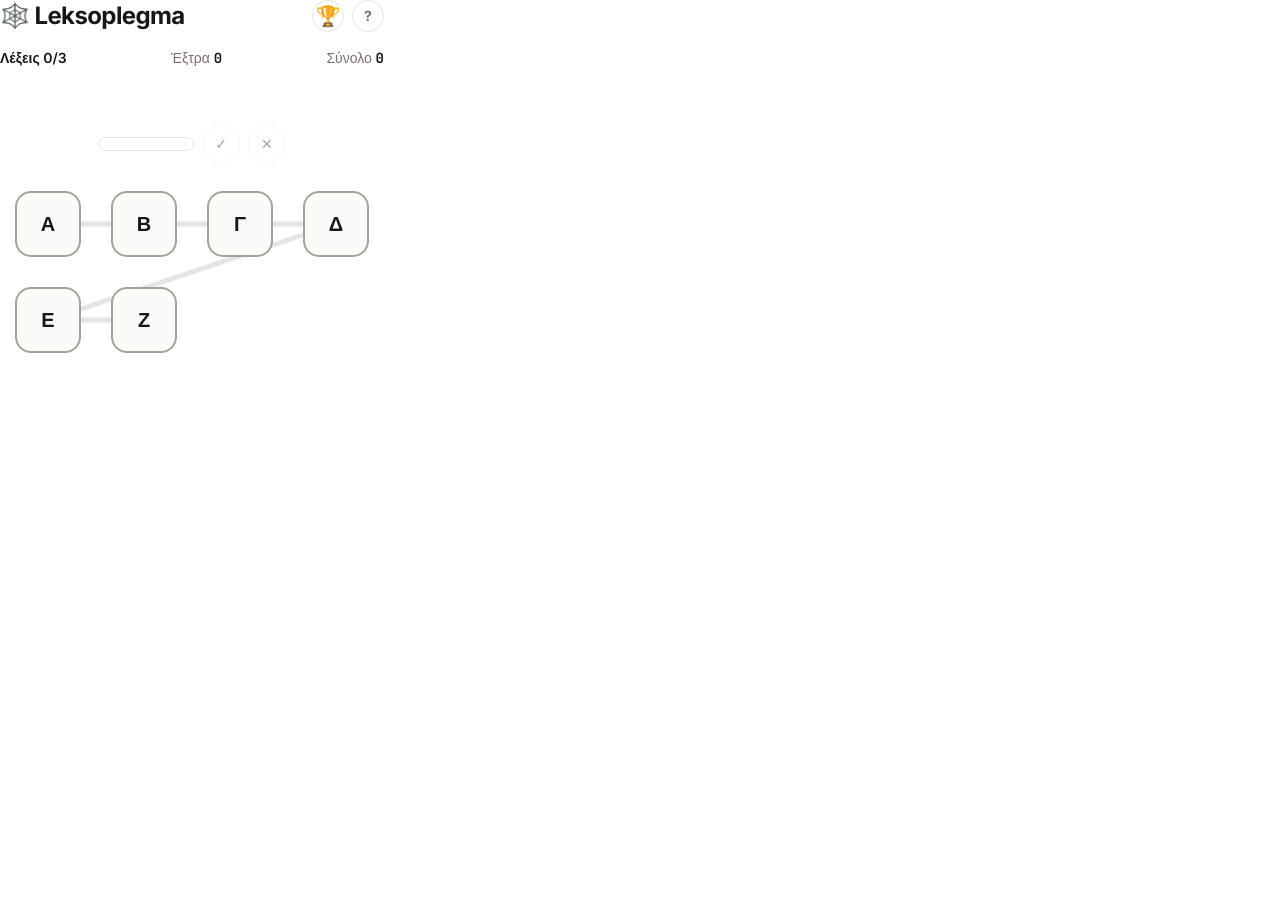
Test: LeksoplegmaPageClient › the rules modal explains tracing and scoring, with no timer anywhere
Step 1. Click the button named "πώς να παίξεις" → (368, 16), box 352,0 -> 384,32
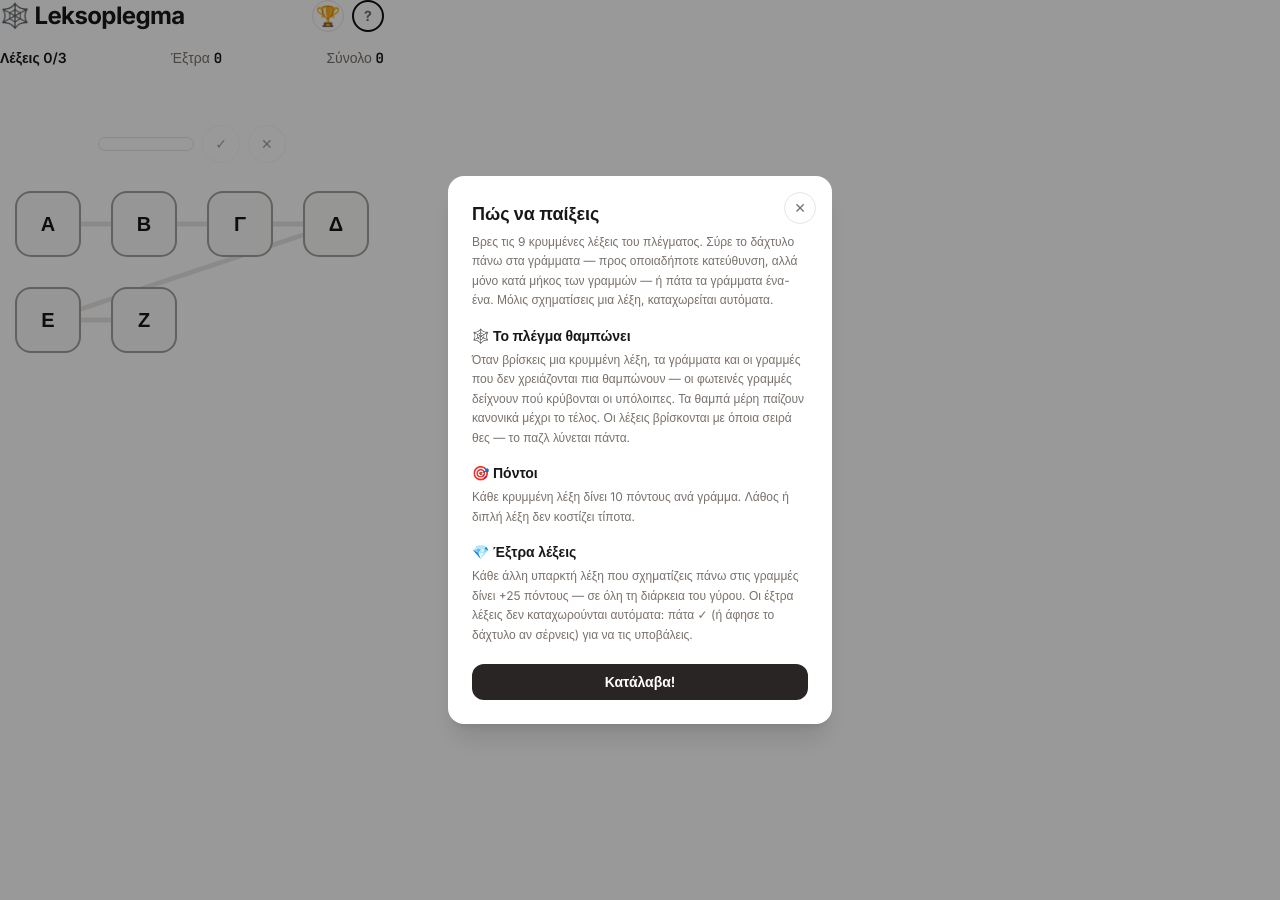
Expected: the text "🎯 Πόντοι" is shown, 472,464 -> 538,481
